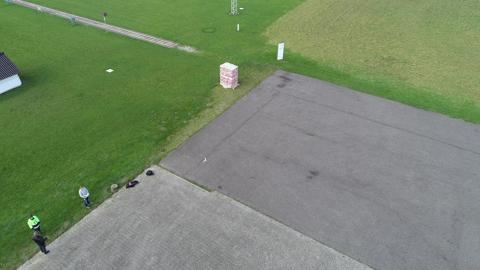RockwoolPallet: (219, 62, 239, 90)
